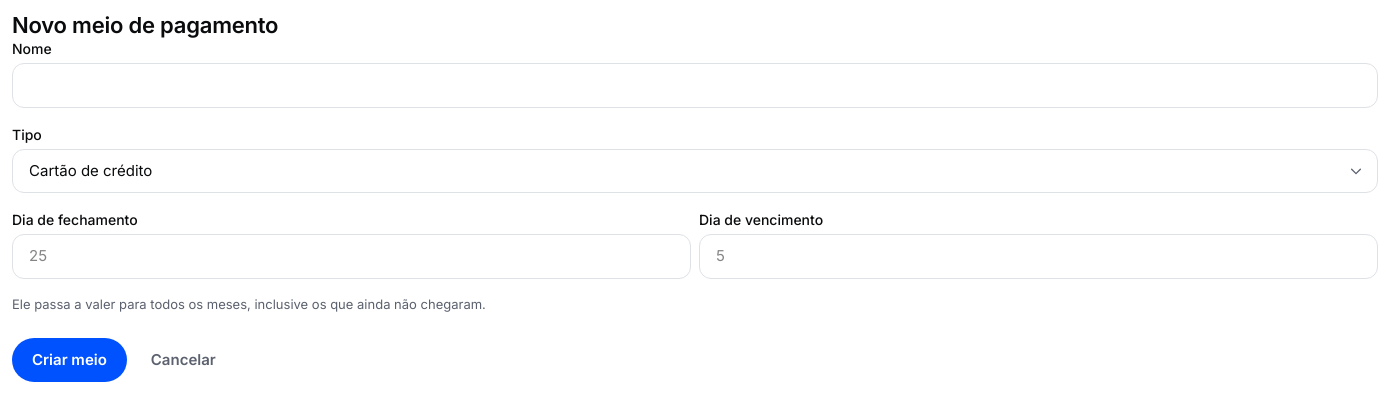
Test: a ajuda de hoje (CADCOL-08, AC 3) › no rótulo, a de que ele é uma etiqueta
The image size is (1390, 399).
Step 1. Select "Rótulo" in the dropdown labelled "Tipo" → (695, 171), box x1=12 y1=149 x2=1378 y2=193
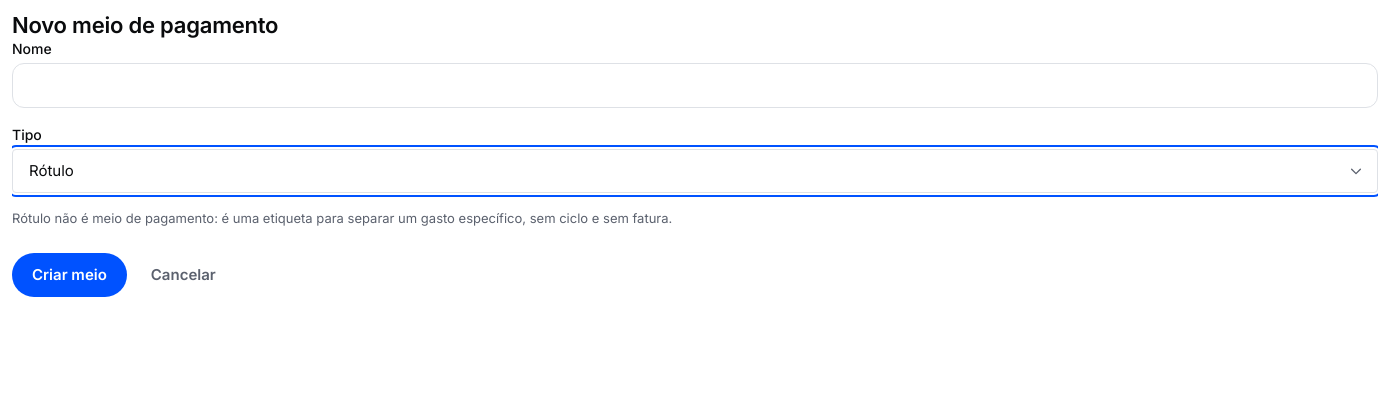
Now the text "Rótulo não é meio de pagamento: é uma etiqueta para separar um gasto específico, sem ciclo e sem fatura." is shown, box x1=12 y1=210 x2=672 y2=226
Now the text "Ele passa a valer para todos os meses, inclusive os que ainda não chegaram." is gone
